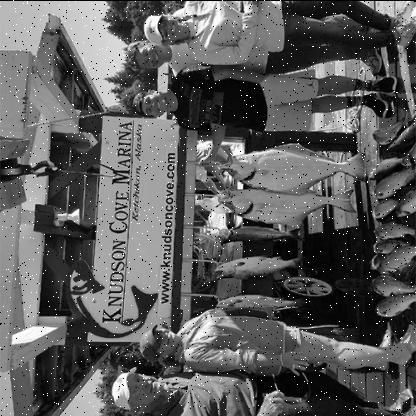fish: (220, 142, 366, 197), (215, 184, 357, 226), (212, 255, 302, 280), (214, 292, 304, 314), (214, 224, 302, 245), (372, 164, 416, 200), (370, 111, 408, 145), (364, 152, 406, 182), (372, 220, 414, 240), (370, 196, 401, 217)
